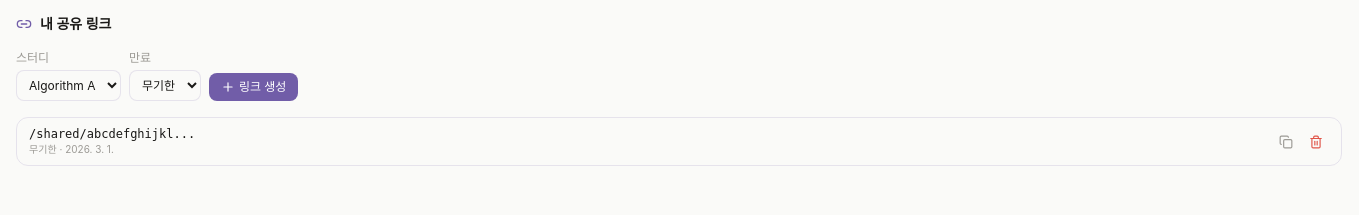
Test: ShareLinkManager › link deactivation › shows error message on deactivation failure
Click the button named "링크 비활성화".
click(1316, 142)  # box top-left (1303, 128), bottom-right (1329, 154)
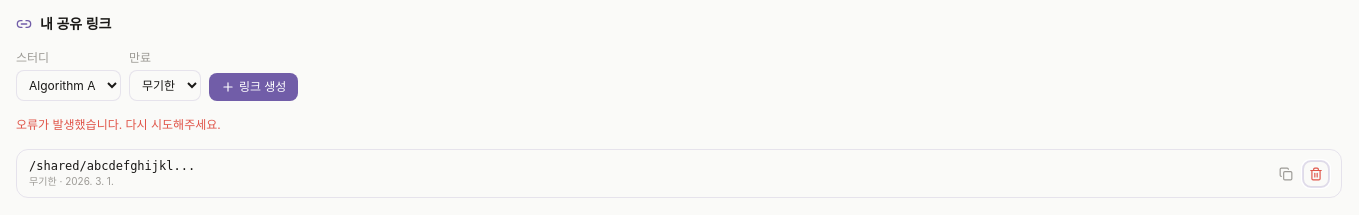
Check: the message reads "오류가 발생했습니다. 다시 시도해주세요.", box top-left (16, 117), bottom-right (221, 132)
